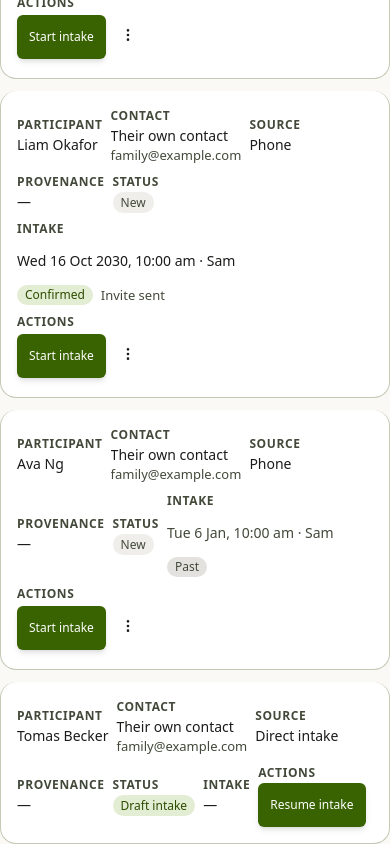
the phone menu › offers only Reschedule and Edit enquiry for a past visit
The image size is (390, 844).
(page scrolled)
What coordinates should you click on to do the following:
click the button named "More actions for Ava Ng"
I would click on:
 (136, 626)
Its box is [114,604,158,648].
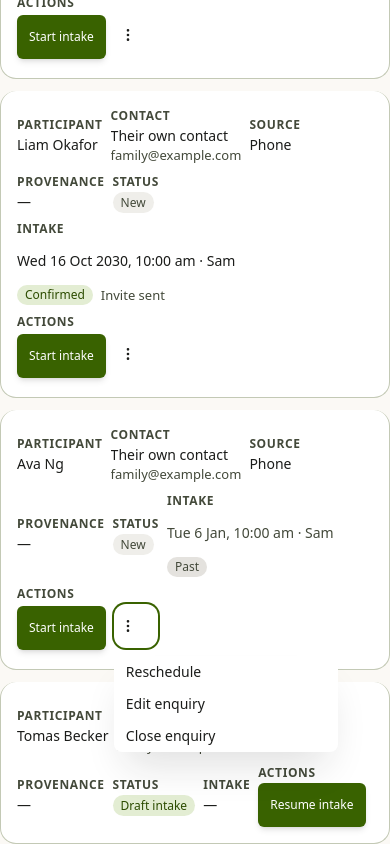
Result: the options read "Reschedule", "Edit enquiry", "Close enquiry", in this order at [126,662,201,681]; [126,694,205,713]; [126,726,215,745]
